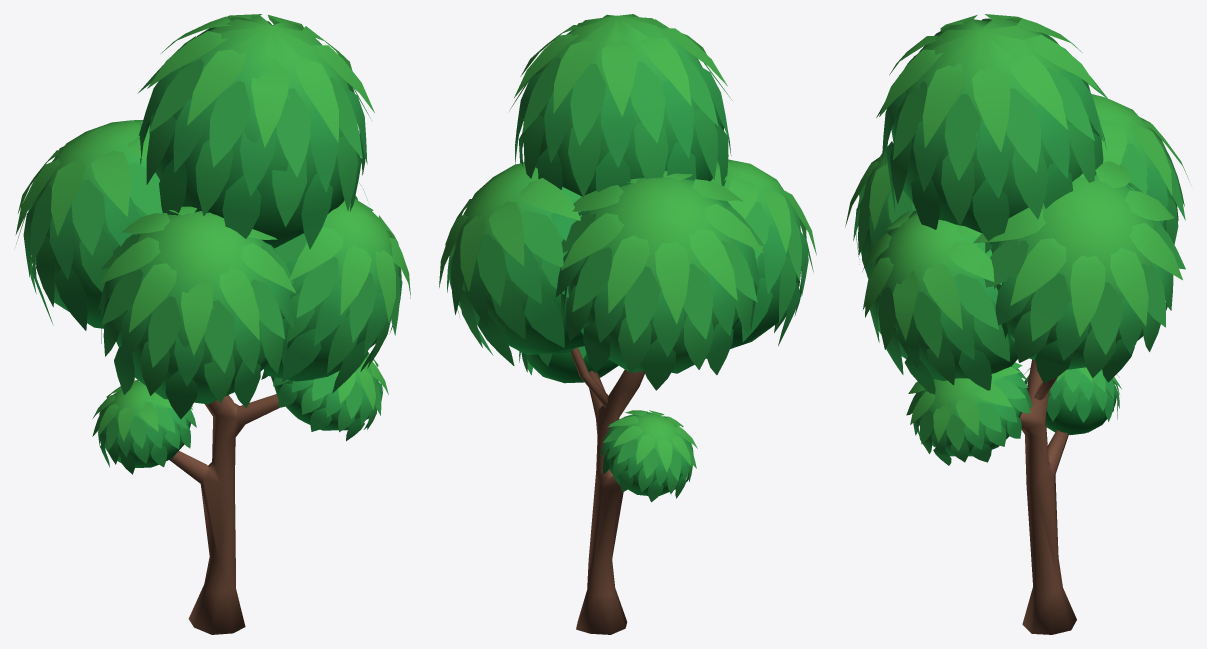
The model's file is Tree5.fbx.
The picture shows the model from 3 angles, left to right: view 1: azimuth 30°, elevation 25°; view 2: azimuth 150°, elevation 25°; view 3: azimuth 270°, elevation 25°; orthographic projection. The views are drawn at different scales.
Visible parts, largest first — view 1: Sphere.013, Sphere.001; view 2: Sphere.013, Sphere.001; view 3: Sphere.013, Sphere.001.
Part boxes in pixels (x1=…): Sphere.013: x1=15, y1=14, x2=410, y2=474; Sphere.001: x1=169, y1=394, x2=278, y2=634; Sphere.013: x1=439, y1=14, x2=816, y2=502; Sphere.001: x1=576, y1=369, x2=644, y2=634; Sphere.013: x1=845, y1=14, x2=1191, y2=465; Sphere.001: x1=1019, y1=359, x2=1076, y2=634.
Bounding box in the file's own units: 476 × 871 × 455.
